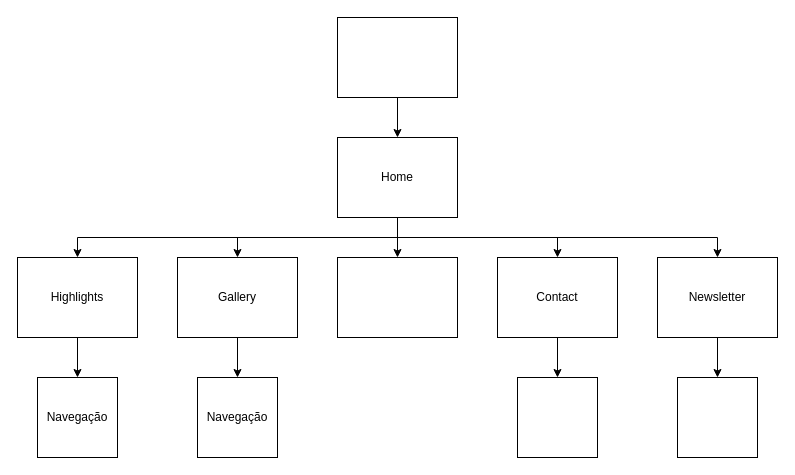
The diagram is 795 pixels wide and 475 high, and some of its shapes have lost their labels. The centre of each missing label's shape, as x and y in pixels:
"About" belongs at point (397, 297).
"Collectors" belongs at point (397, 57).
"Email (opcional)" belongs at point (717, 417).
"Entre em Contato" belongs at point (557, 417).
